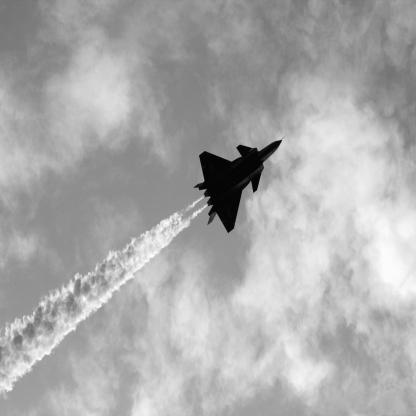J20: (194, 137, 288, 235)
